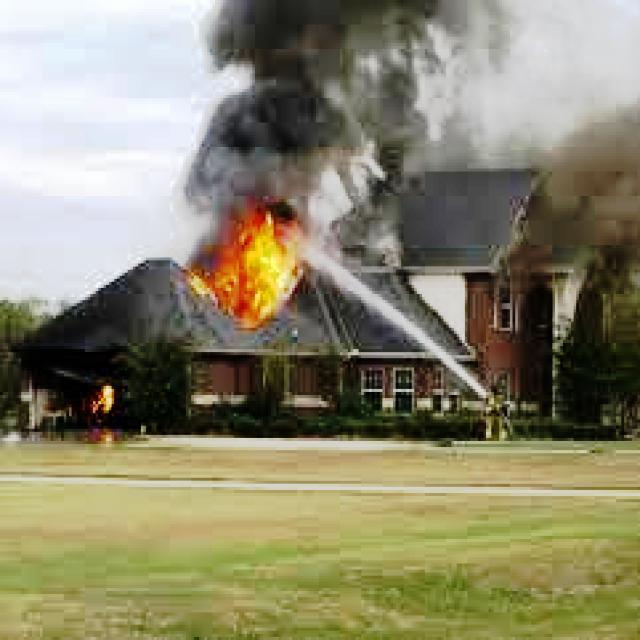api: (184, 194, 312, 319), (86, 371, 128, 442)
